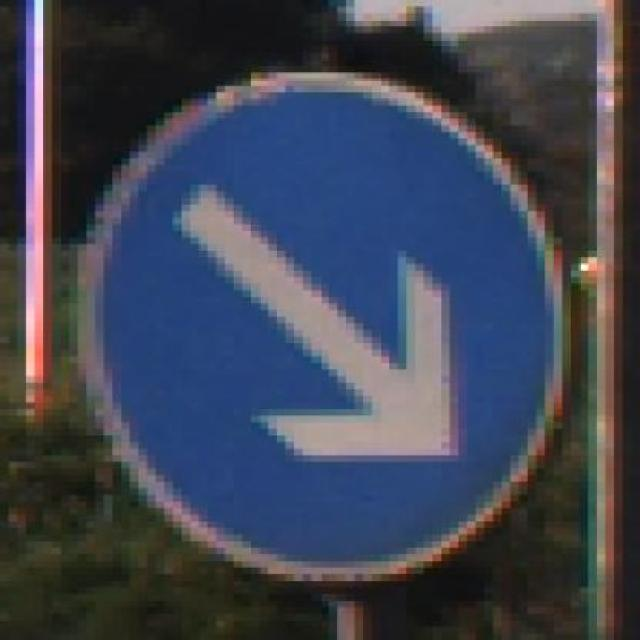Keep-Right: (52, 40, 597, 614)
